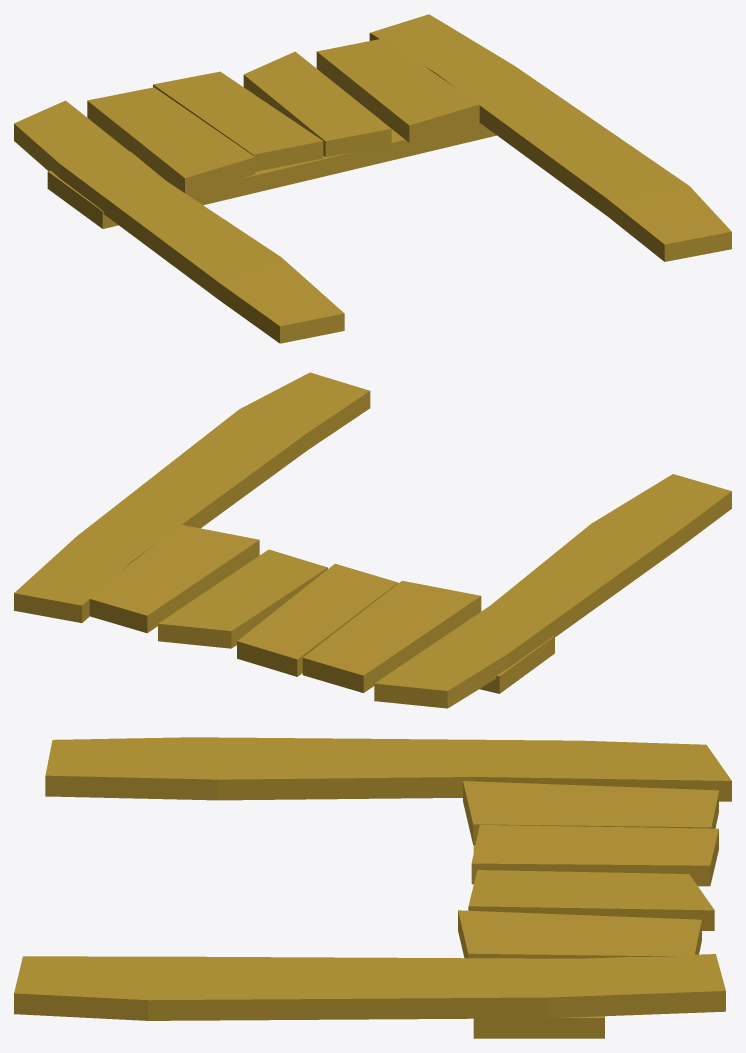
File: Platform_02.fbx
The picture shows the model from 3 angles, top to bottom: view 1: azimuth 30°, elevation 25°; view 2: azimuth 150°, elevation 25°; view 3: azimuth 270°, elevation 25°; orthographic projection. The views are drawn at different scales.
Parts seen in each view (by area): view 1: Platform_02; view 2: Platform_02; view 3: Platform_02.
Boxes of the visible parts, x1=… form: Platform_02: x1=14, y1=14, x2=731, y2=343; Platform_02: x1=14, y1=372, x2=731, y2=708; Platform_02: x1=14, y1=737, x2=731, y2=1038.
Bounding box in the file's own units: 5.42 × 0.436 × 6.26.
